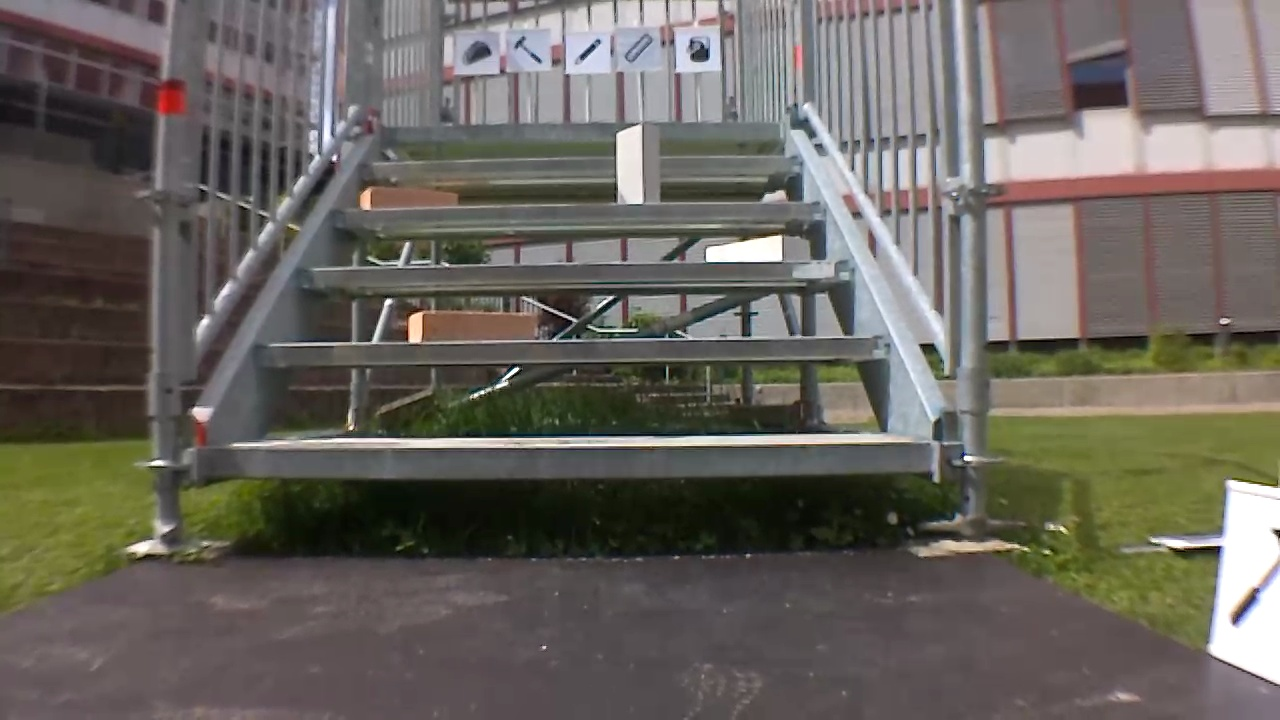brick: (407, 311, 534, 342), (616, 125, 659, 203), (708, 235, 809, 261), (361, 185, 456, 208)
bucket: (681, 30, 712, 65)
edge: (203, 439, 933, 478), (257, 336, 886, 361), (296, 261, 850, 281), (331, 201, 824, 222), (359, 157, 801, 176), (381, 121, 782, 140)
hammer: (509, 31, 548, 66)
pencil: (569, 34, 605, 66)
ruler: (621, 30, 658, 65)
stairs: (130, 2, 1014, 557)
steps: (195, 115, 944, 482)
taco: (456, 37, 495, 68)
